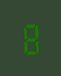eight: (19, 21, 40, 55)
